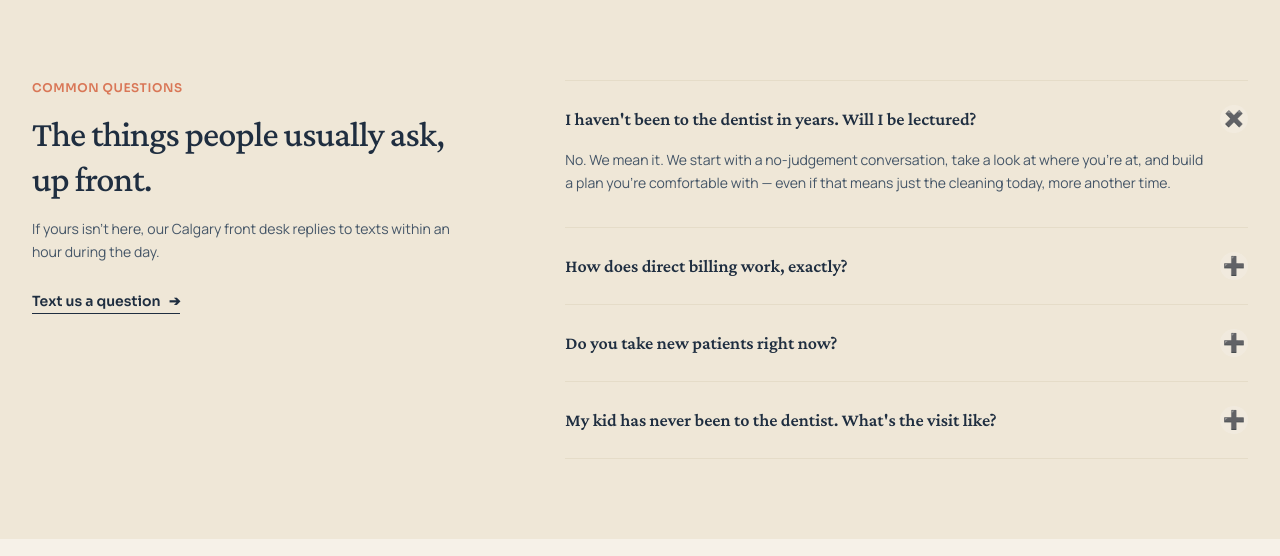
FaqSection accordion › opens a closed item and closes the previously open one
Click the button "How does direct billing work, exactly? ➕" at (706, 266), box [565,244,1248,288]
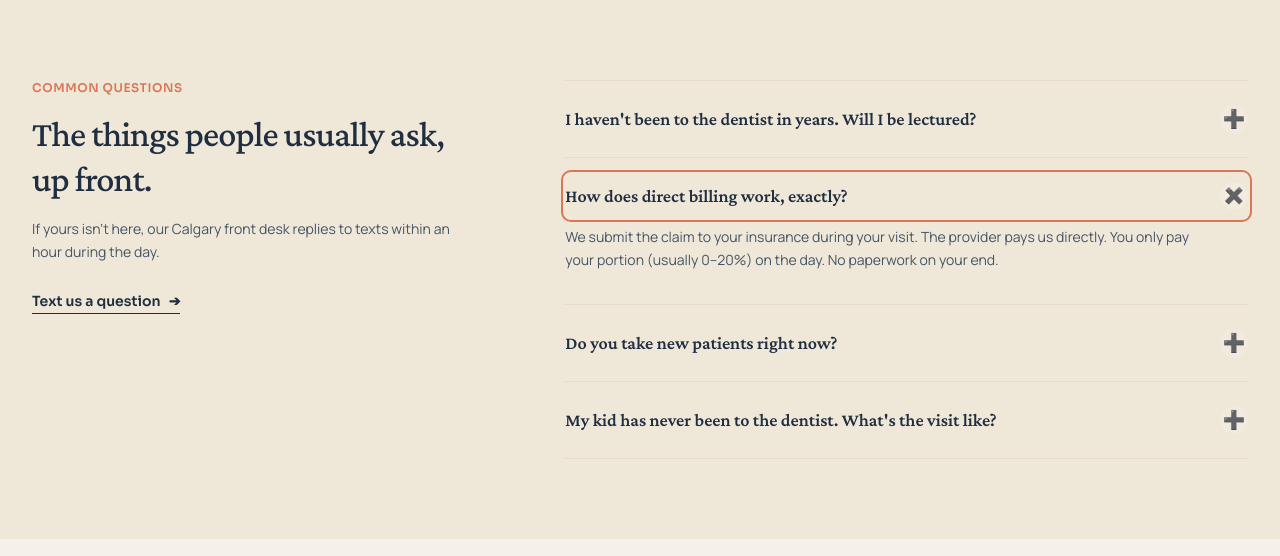
Expected: the button "How does direct billing work, exactly? ➕" is expanded, [565,174,1248,218]
Expected: the 1st button is collapsed, [565,97,1248,141]
